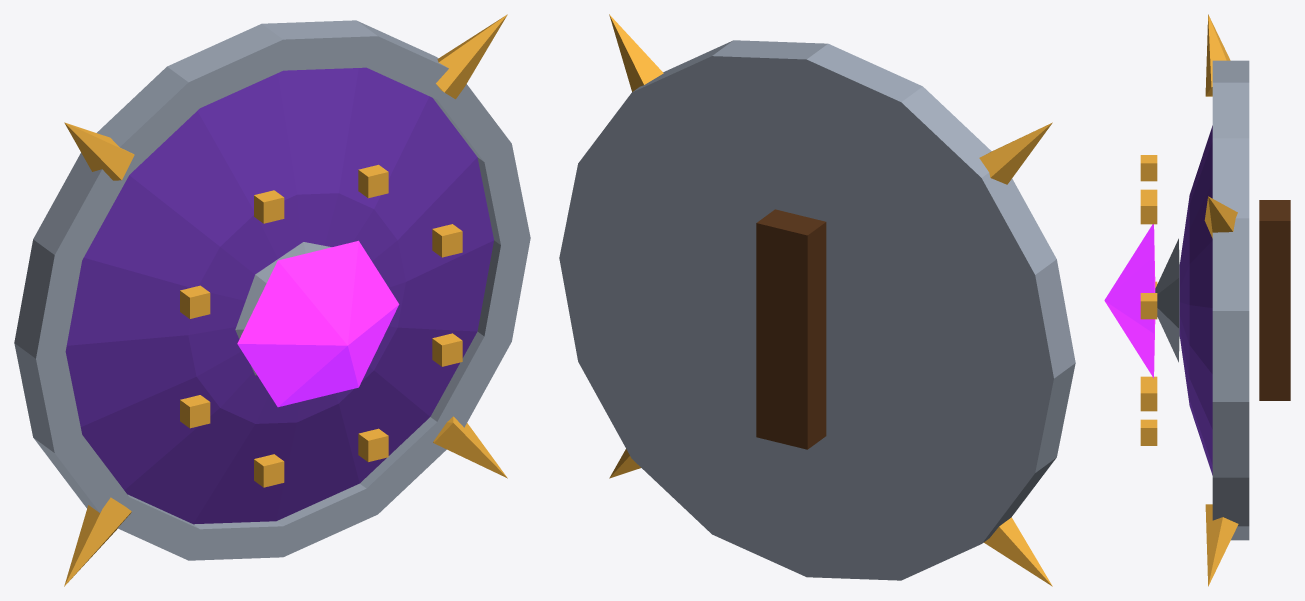
Rendered from shield_buckler_epic.glb.
3 renders of one model, left to right at view 1: azimuth 30°, elevation 25°; view 2: azimuth 150°, elevation 25°; view 3: azimuth 270°, elevation 25°, orthographic. The views are drawn at different scales.
Parts seen in each view (by area): view 1: shield_buckler_epic_export; view 2: shield_buckler_epic_export; view 3: shield_buckler_epic_export.
Boxes of the visible parts, left/top/right/bottom form: shield_buckler_epic_export: left=14, top=14, right=530, bottom=586; shield_buckler_epic_export: left=559, top=14, right=1075, bottom=586; shield_buckler_epic_export: left=1104, top=14, right=1290, bottom=586.
Bounding box in the file's own units: 58 × 58 × 22.5.
